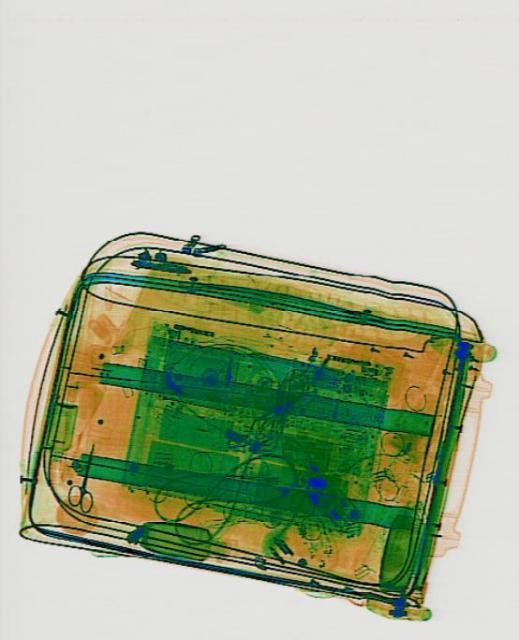Scissors: (63, 436, 105, 514)
